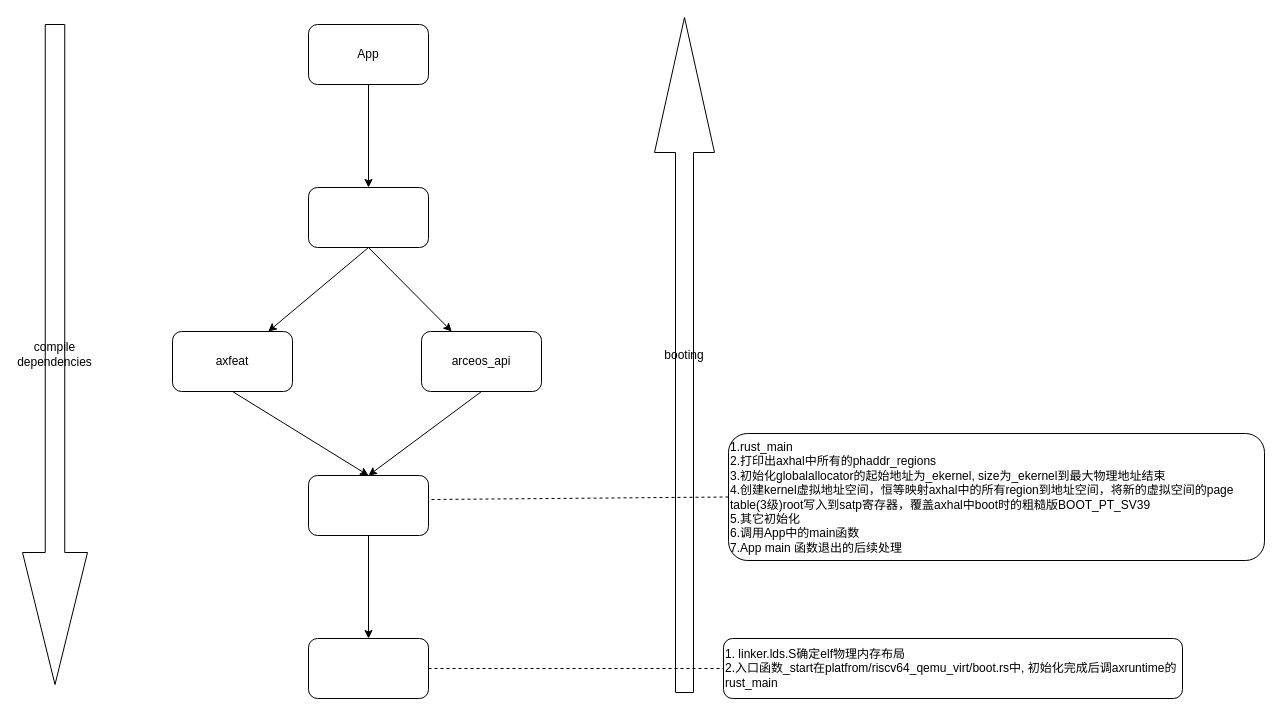
Image size: 1282x716. Some labels were removed from this diagram. Each missing label, with the centre of its shape:
"axhal" goes at (368,668).
"axruntime" goes at (368,505).
"axstd" goes at (368,217).
